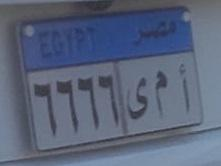6: (54, 69, 79, 126), (34, 72, 57, 127), (98, 68, 117, 128), (80, 68, 98, 127)
أ: (174, 61, 190, 114)
م: (152, 63, 171, 122)
ي: (128, 67, 150, 128)
